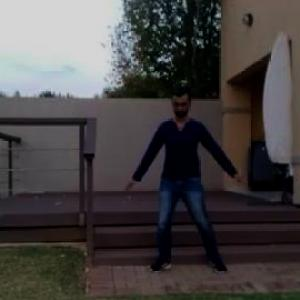land: (136, 89, 254, 282)
